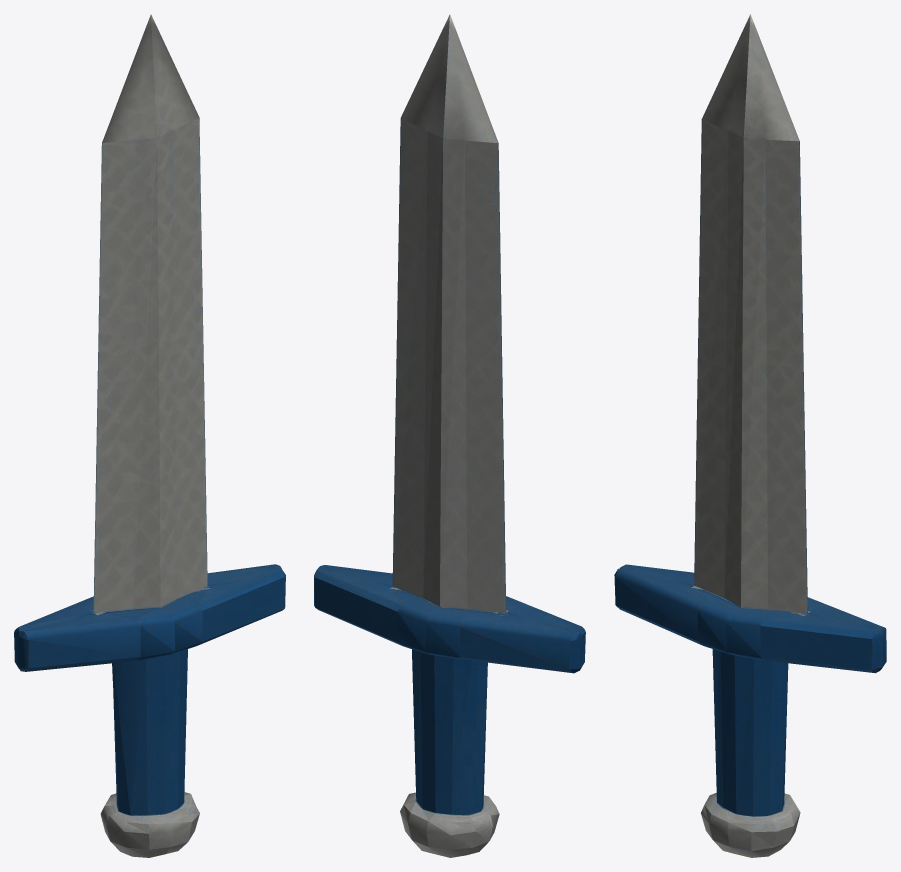
Rendered from sword_silverguard.glb.
3 views of the same model, side by side, from view 1: azimuth 30°, elevation 25°; view 2: azimuth 150°, elevation 25°; view 3: azimuth 330°, elevation 25° (orthographic).
Bounding box in the file's own units: 0.3311 × 1 × 0.1057.
Materials: 1 (1 with a texture image).
